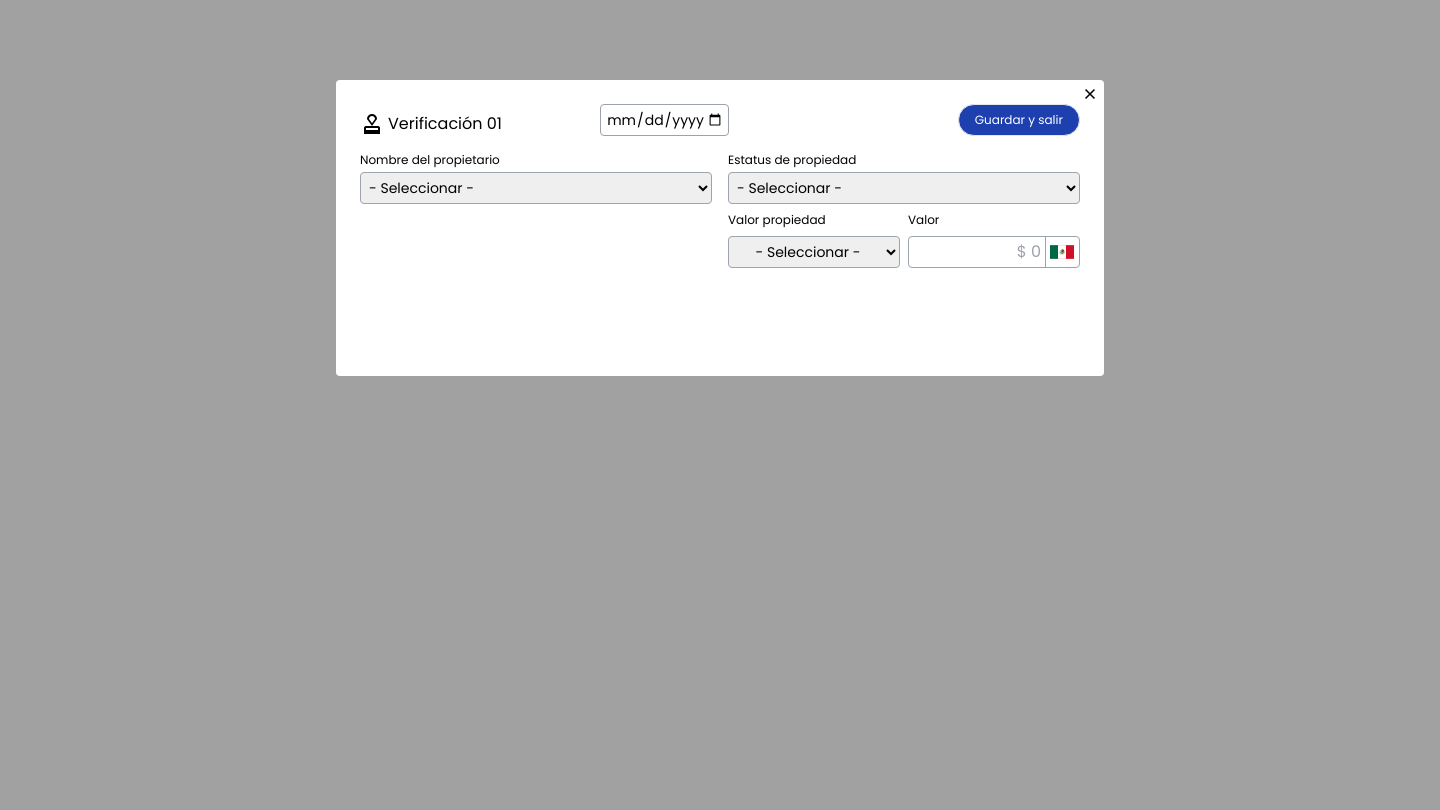
VerificationForm › It should display the applicant name when selecting "Solicitante".
Select "Solicitante" in the dropdown labelled "Nombre del propietario": [536, 188] box [360, 172, 712, 204]
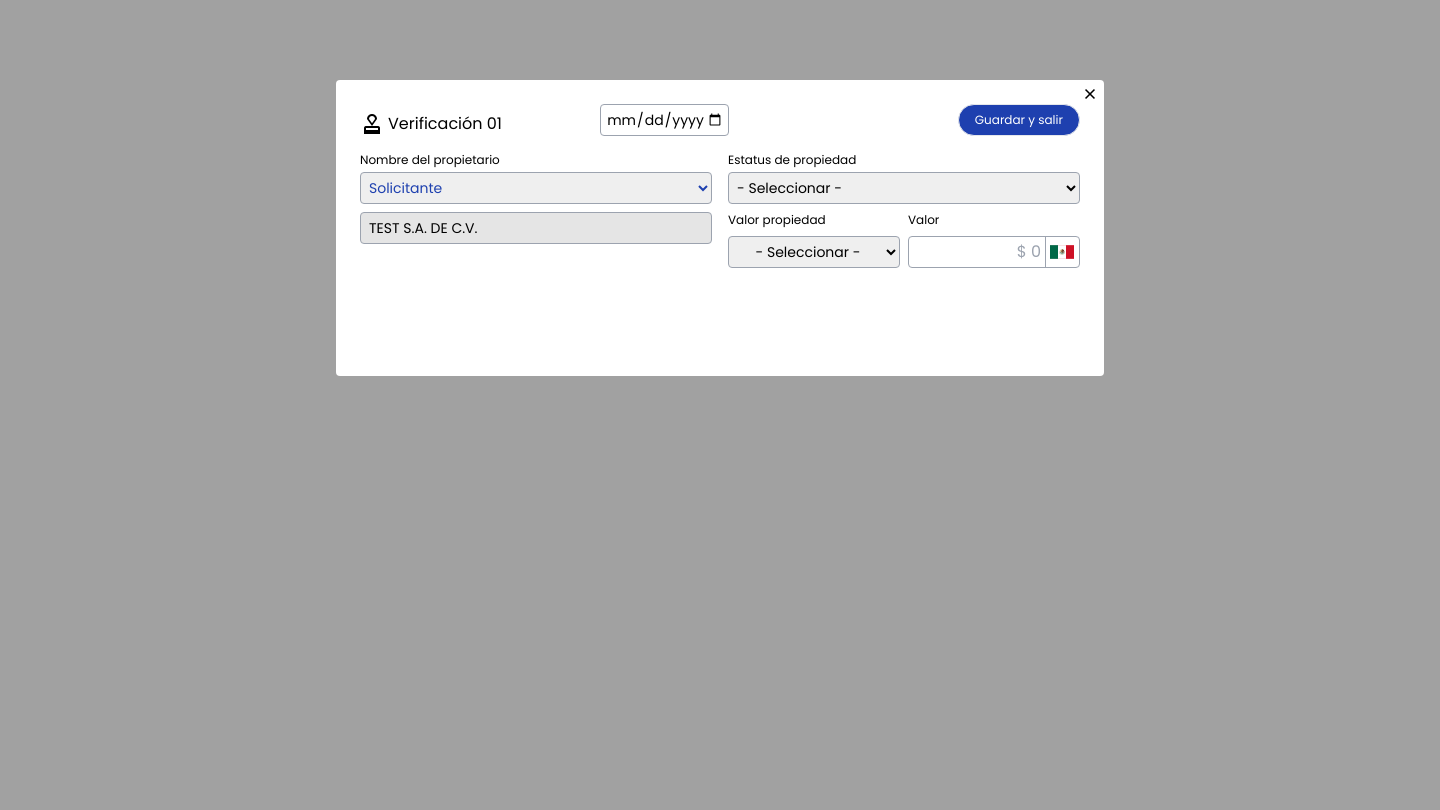
Expected: the text "TEST S.A. DE C.V." is shown, [360, 212, 712, 244]
